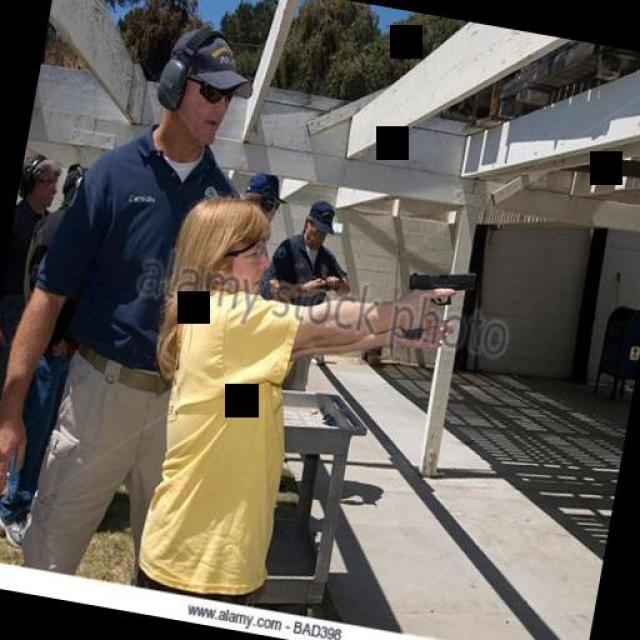gun: (396, 258, 479, 348)
